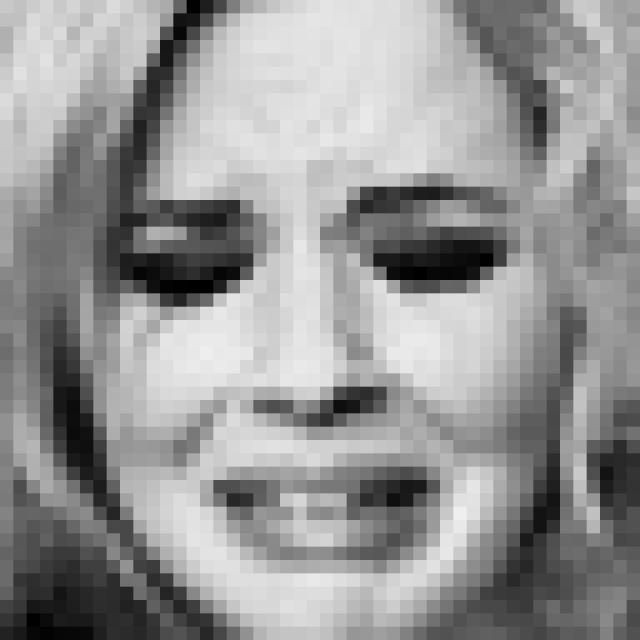sad: (106, 168, 524, 581)
